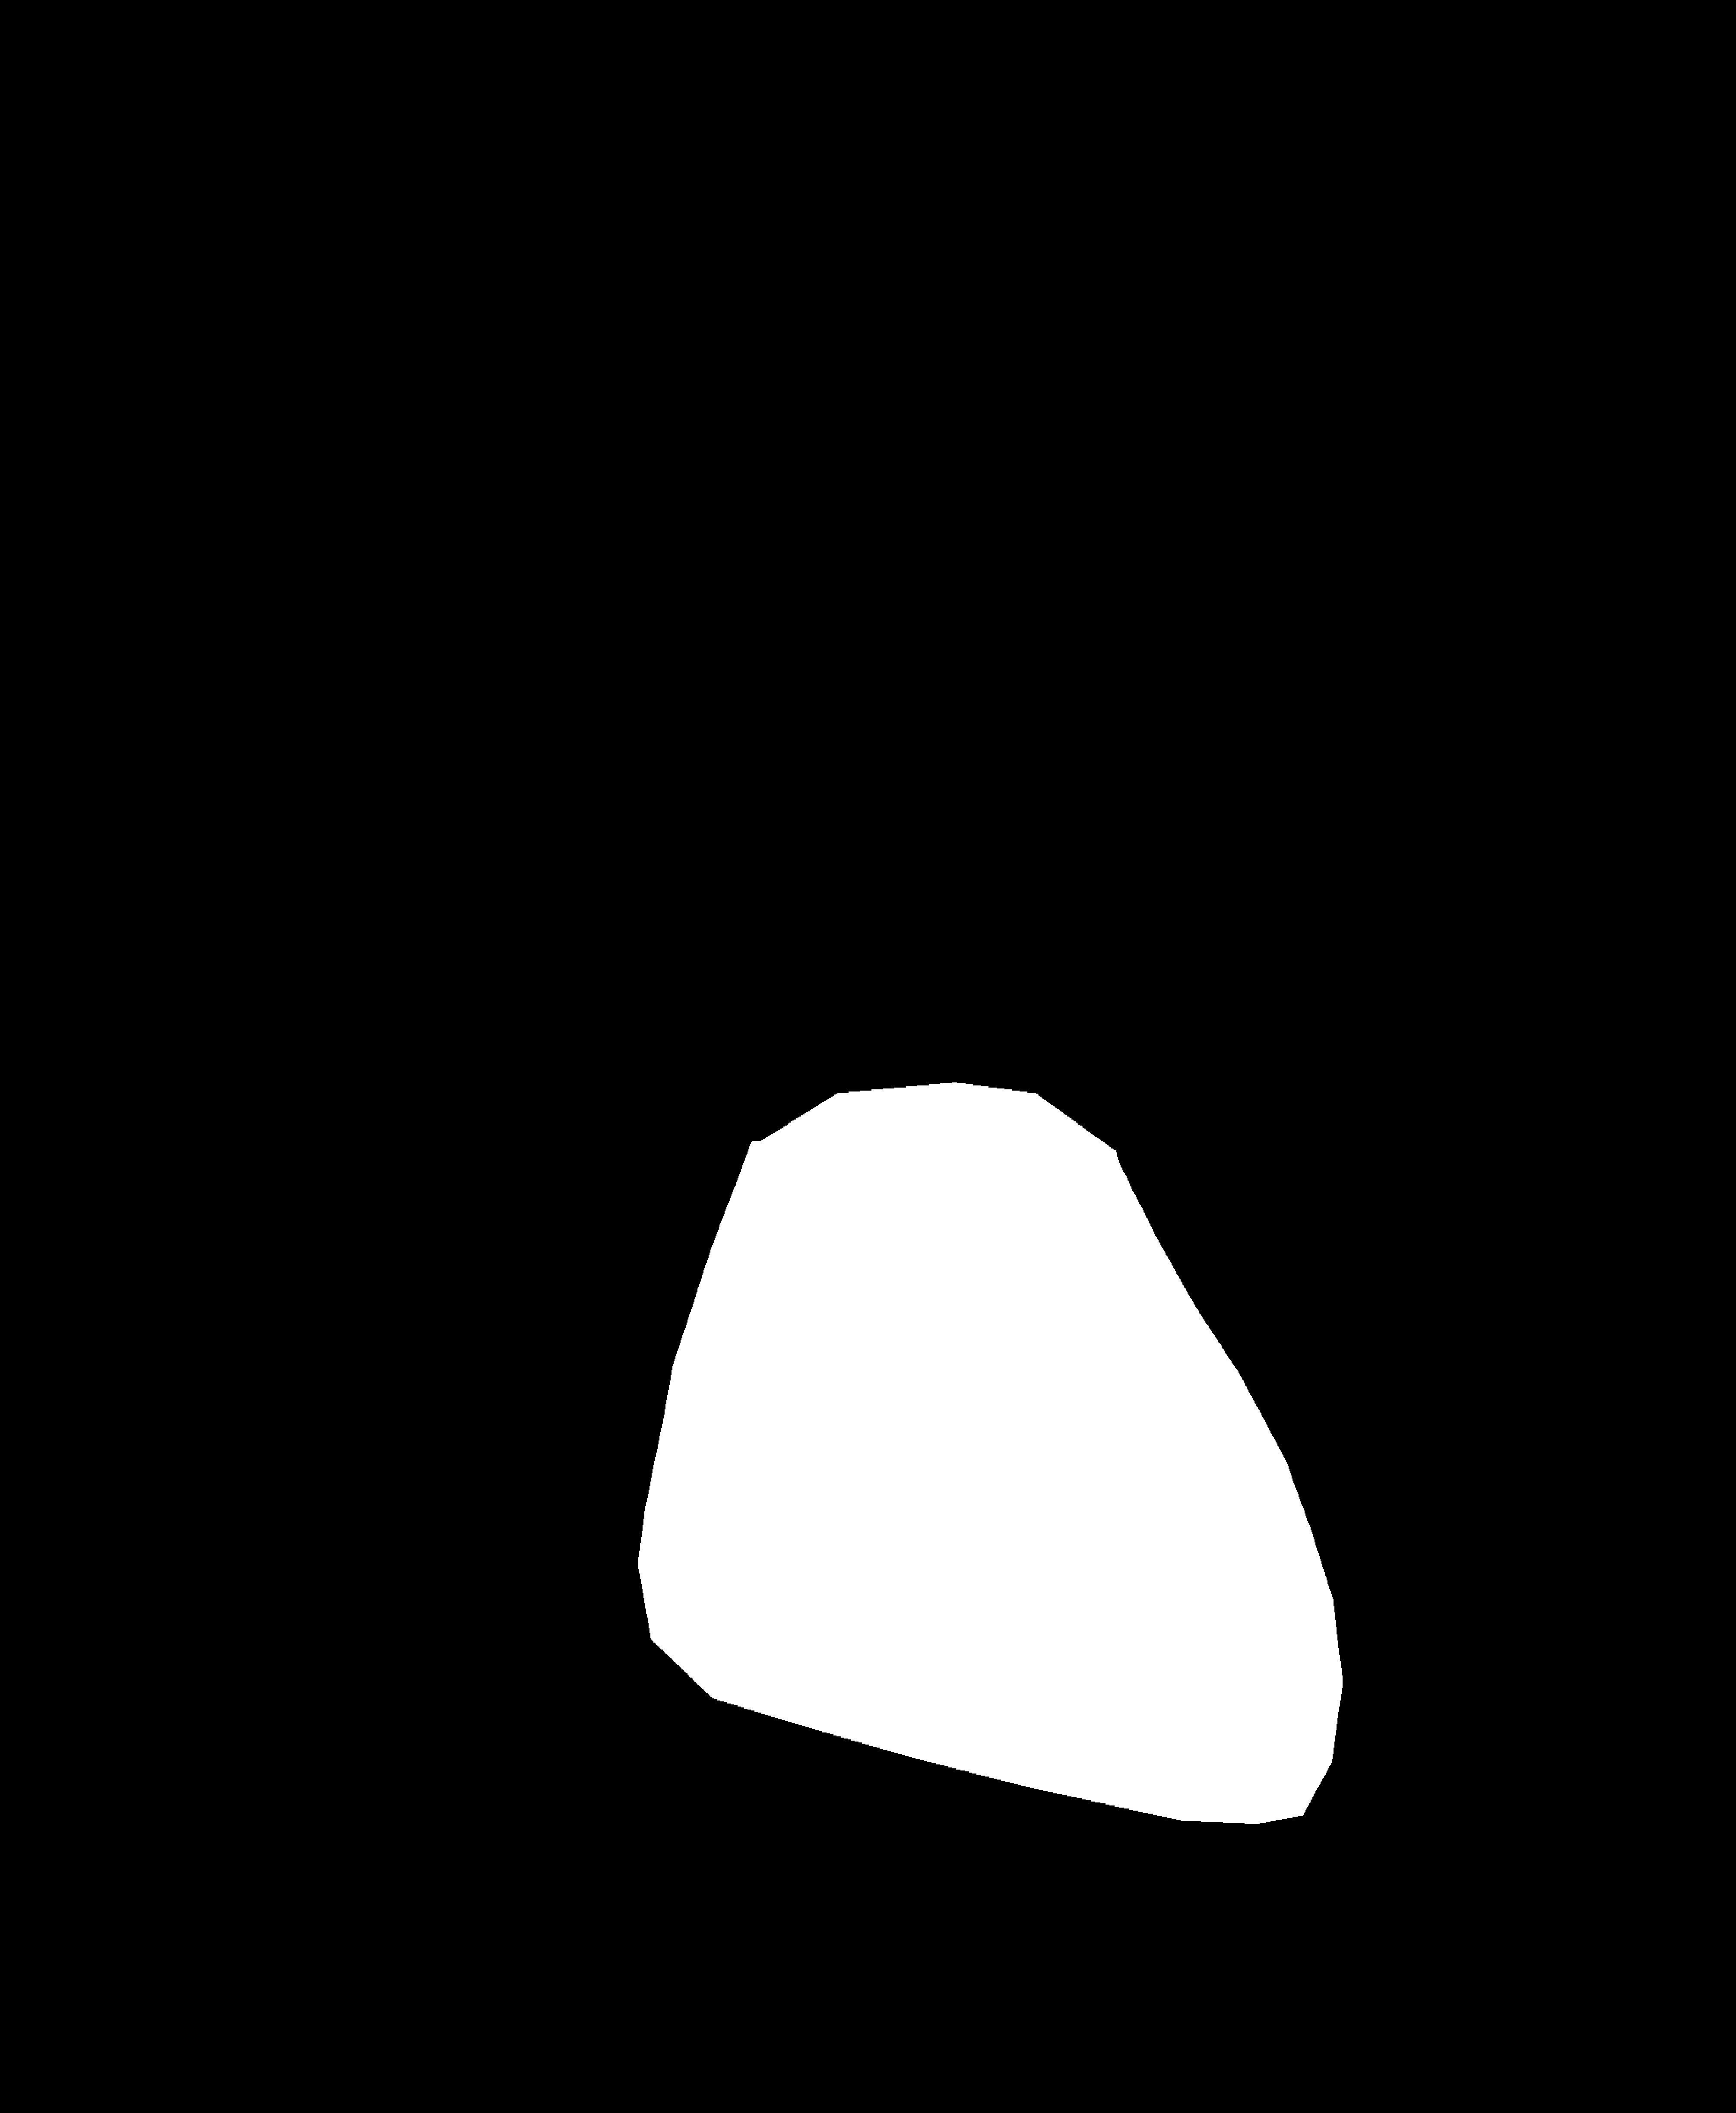heart: (641, 1230, 1341, 1916)
left_lung: (25, 390, 836, 2029)
right_lung: (953, 323, 1654, 2067)
